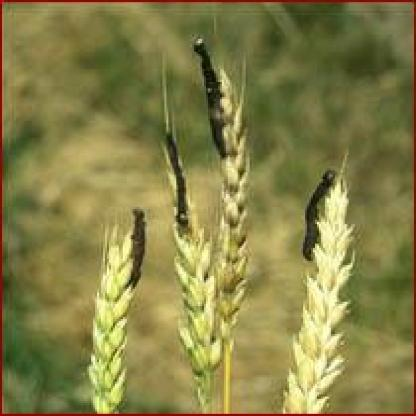armyworm: (190, 29, 236, 164), (297, 166, 343, 268), (159, 125, 195, 230), (125, 205, 148, 294)
